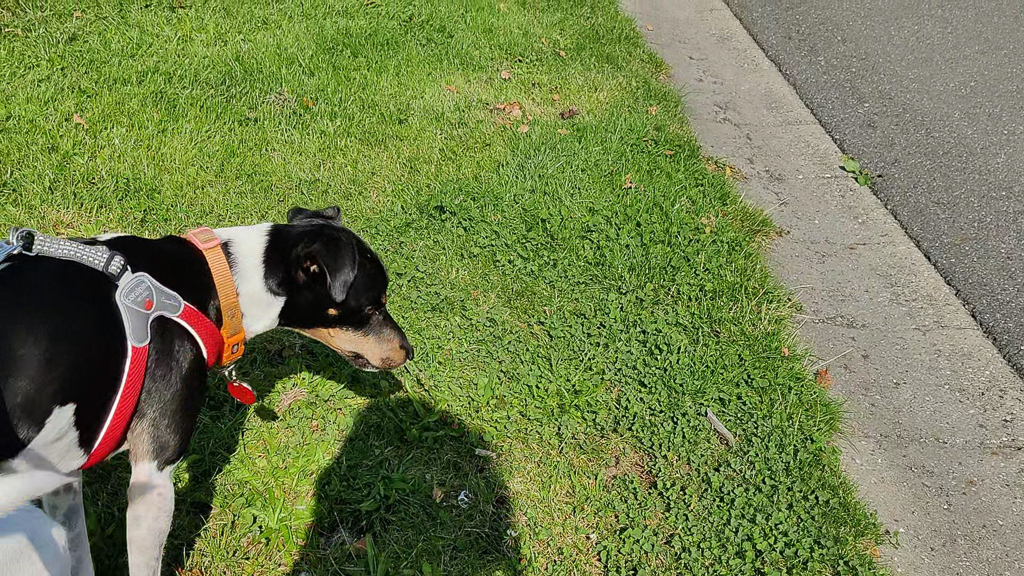Dog: (0, 196, 423, 576)
